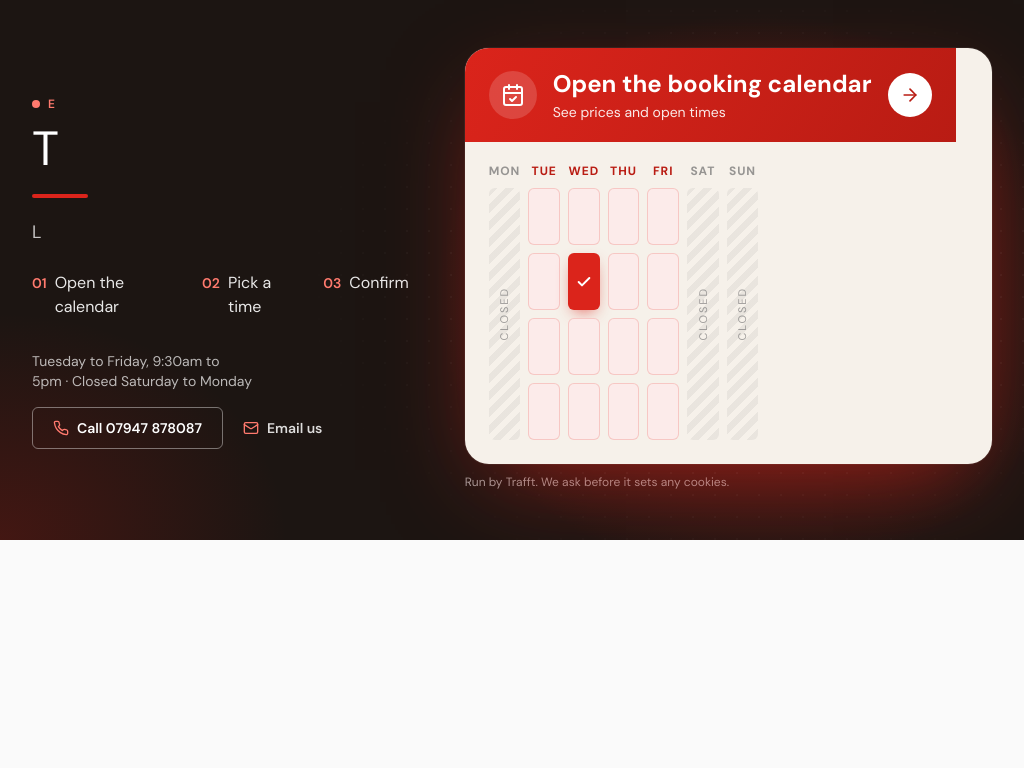
BookingStage, the booking stop before consent › asks first: the card turns to say who the calendar belongs to before consent
The width and height of the screenshot is (1024, 768).
Click the button "Open the booking calendar". click: (960, 256)
box: [465,48,992,464]
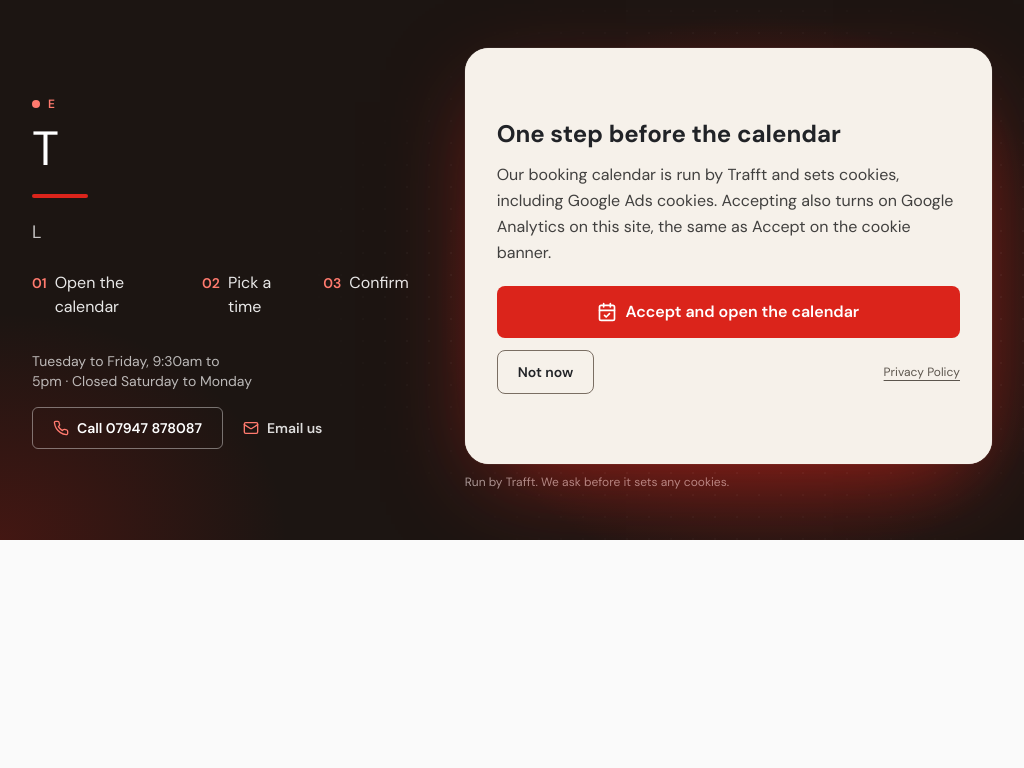
expect the text "run by Trafft and sets cookies" is shown: met, box [497,164,954,263]
